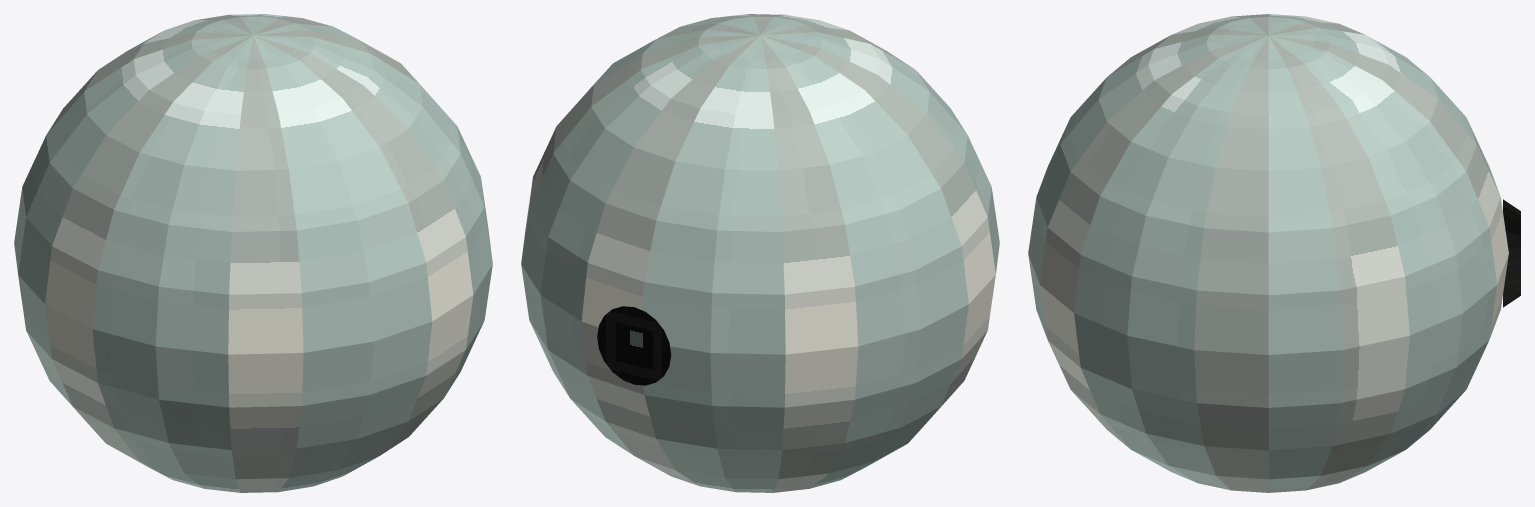
File: kino.obj
3 views of the same model, side by side, from view 1: azimuth 30°, elevation 25°; view 2: azimuth 150°, elevation 25°; view 3: azimuth 270°, elevation 25° (orthographic).
Parts seen in each view (by area): view 1: Kino; view 2: Kino; view 3: Kino.
Boxes of the visible parts, x1,y1,x2,y2 form: Kino: (14, 14, 492, 492); Kino: (521, 14, 999, 492); Kino: (1028, 14, 1520, 492).
Bounding box in the file's own units: 0.81 × 0.81 × 0.83.
